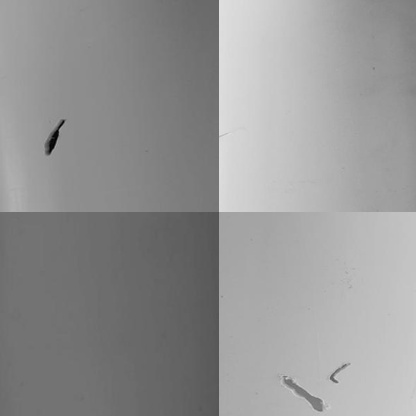fengxi: (327, 353, 357, 388)
kongdong: (279, 373, 327, 413), (40, 118, 70, 159)
